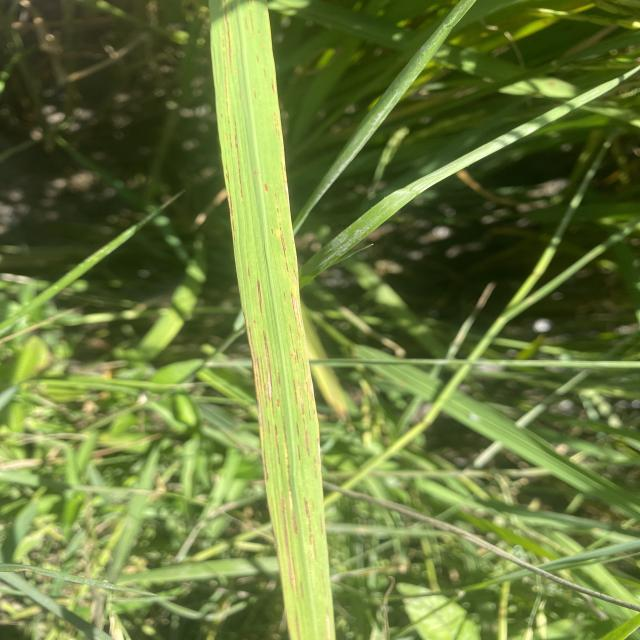Dom soc vi khuan: (249, 325, 269, 479), (283, 416, 298, 535), (275, 192, 288, 272), (263, 327, 274, 417), (234, 115, 243, 200), (288, 317, 298, 373), (297, 378, 305, 415), (257, 278, 263, 317), (294, 379, 298, 405)
